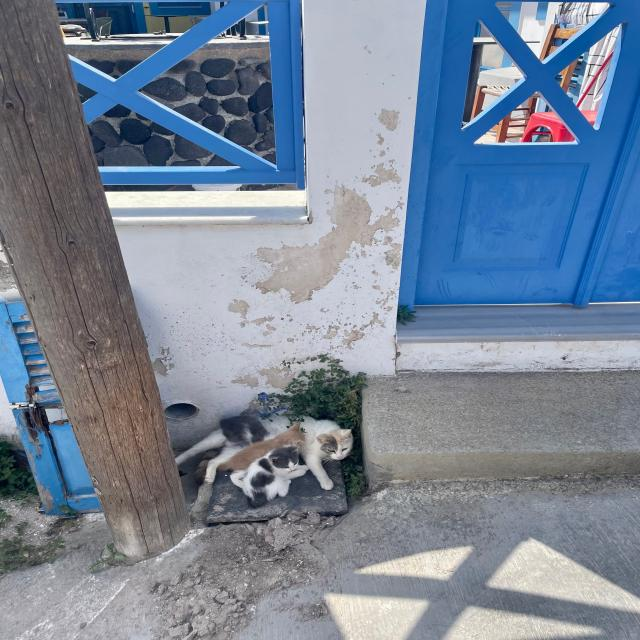cat: (175, 412, 288, 482), (217, 422, 305, 471), (242, 446, 308, 508), (300, 416, 353, 490)
